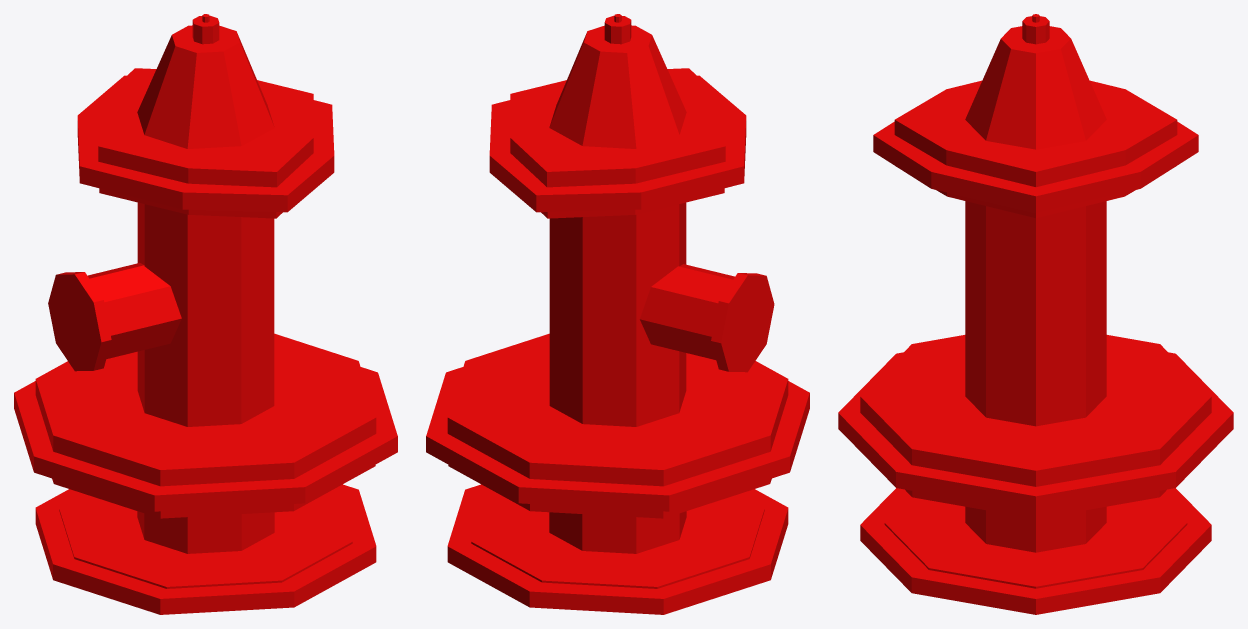
File: hidrante.fbx
The picture shows the model from 3 angles, left to right: view 1: azimuth 30°, elevation 25°; view 2: azimuth 150°, elevation 25°; view 3: azimuth 270°, elevation 25°; orthographic projection.
Visible parts, largest first — view 1: hidrante; view 2: hidrante; view 3: hidrante.
Boxes of the visible parts, left/top/right/bottom form: hidrante: left=14, top=14, right=397, bottom=614; hidrante: left=426, top=14, right=809, bottom=614; hidrante: left=838, top=14, right=1233, bottom=614.
Size of the model in its own units: 65.3 by 95.67 by 65.3.
